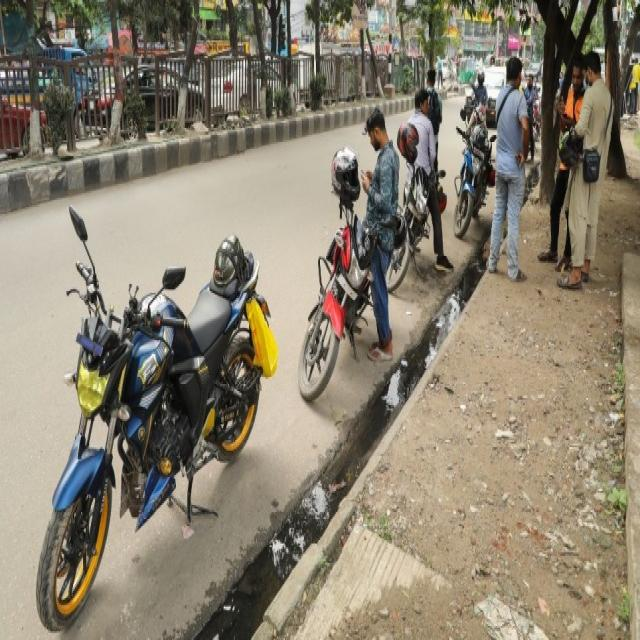bike: (34, 236, 266, 614), (297, 176, 392, 399), (454, 97, 502, 246)
